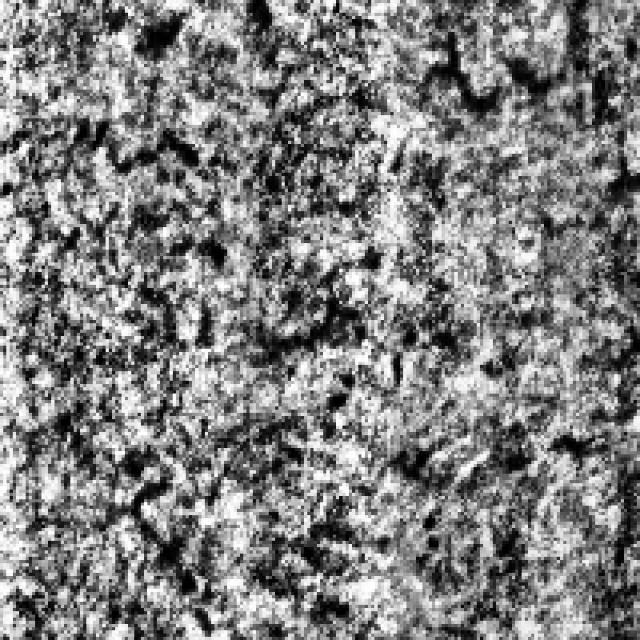Pitted_Surface: (422, 0, 637, 464), (0, 109, 362, 352)
